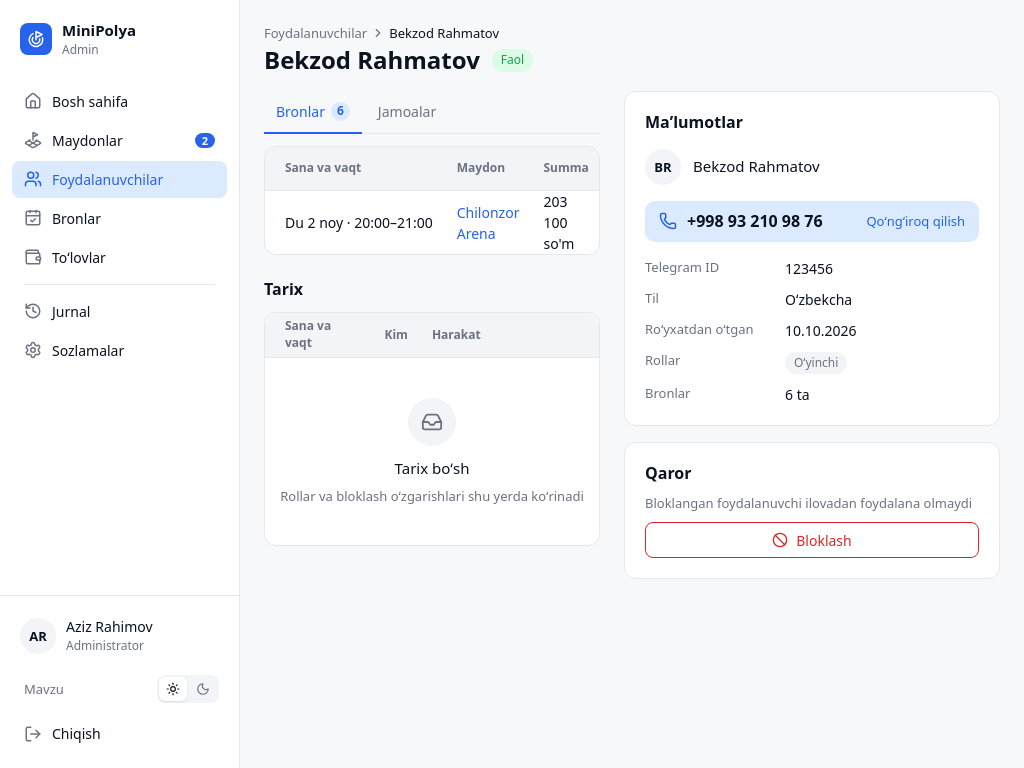
Scenario: Foydalanuvchilar — detail › shows the summary, their bookings and their teams
The image size is (1024, 768).
expect the heading "Bekzod Rahmatov" is shown: met, box [264,46,480,75]
expect the text "123456" is shown: met, box [785,259,833,278]
Click the tab "Jamoalar": x=407, y=112 [366,91,448,134]
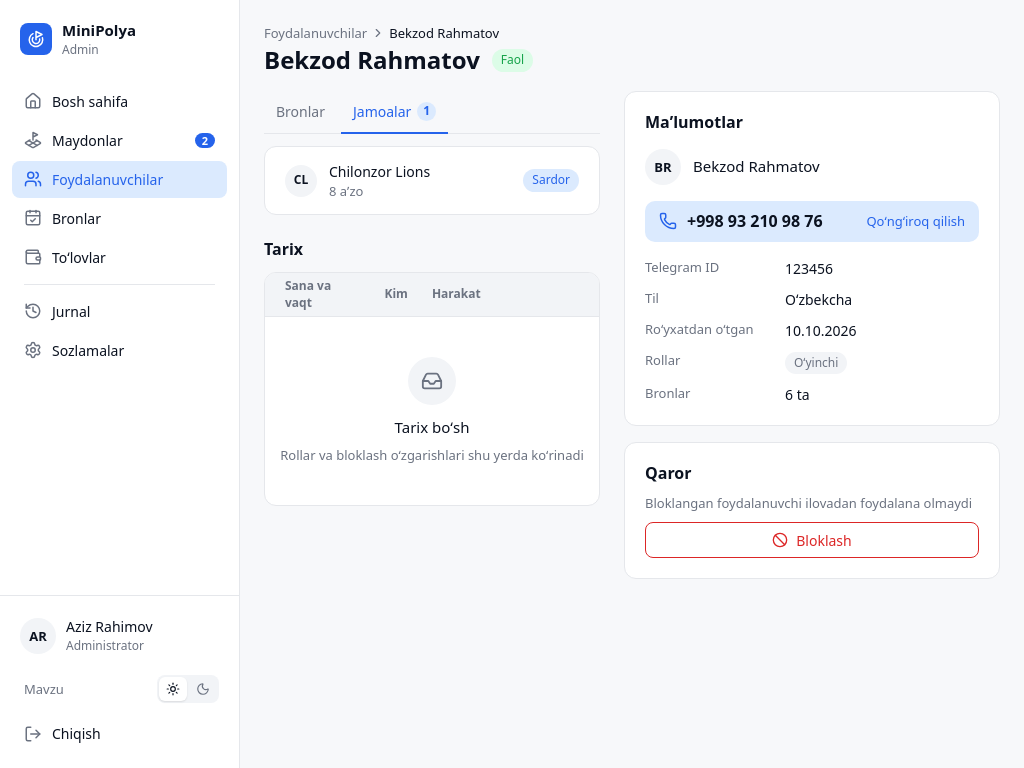
expect the text "Chilonzor Lions" is shown: met, box [329,162,430,181]
expect the text "Sardor" is shown: met, box [523,169,579,192]
